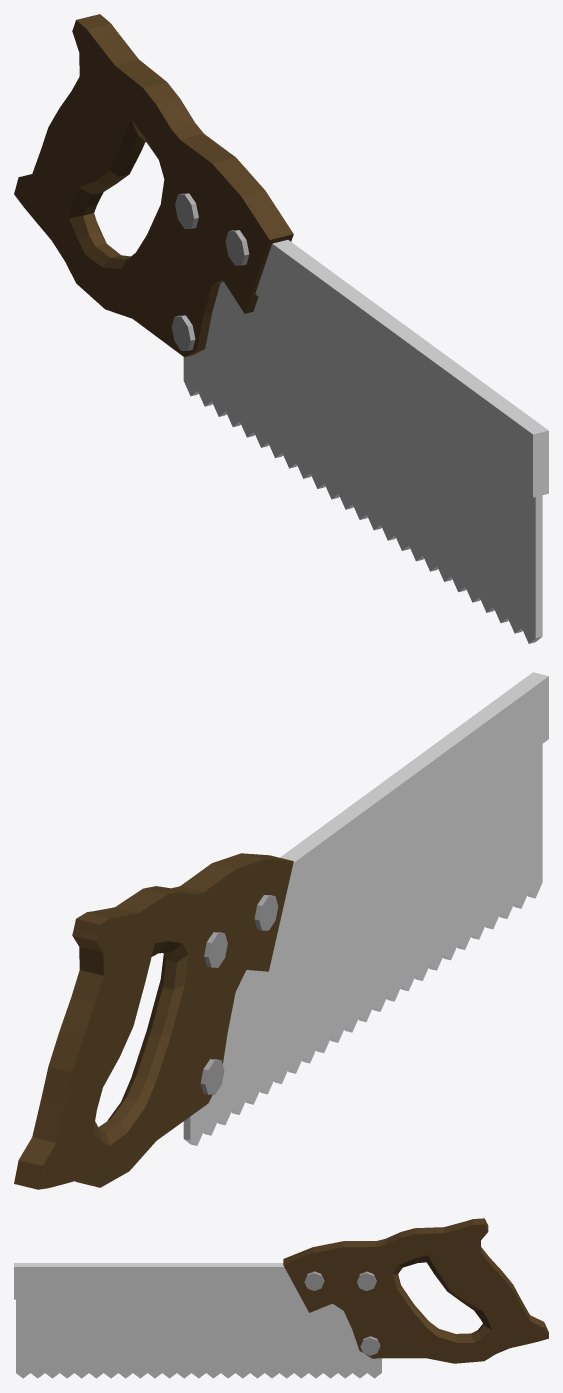
The model's file is saw-small-highcount.glb.
The picture shows the model from 3 angles, top to bottom: view 1: azimuth 30°, elevation 25°; view 2: azimuth 150°, elevation 25°; view 3: azimuth 270°, elevation 25°; orthographic projection. The views are drawn at different scales.
Visible parts, largest first — view 1: saw_small_highcount; view 2: saw_small_highcount; view 3: saw_small_highcount.
Part boxes in pixels (x1,y1,x2,y2): saw_small_highcount: (14, 14, 548, 643); saw_small_highcount: (14, 672, 548, 1189); saw_small_highcount: (14, 1218, 548, 1378).
Size of the model in its own units: 0.7373 by 5.85 by 18.13.
